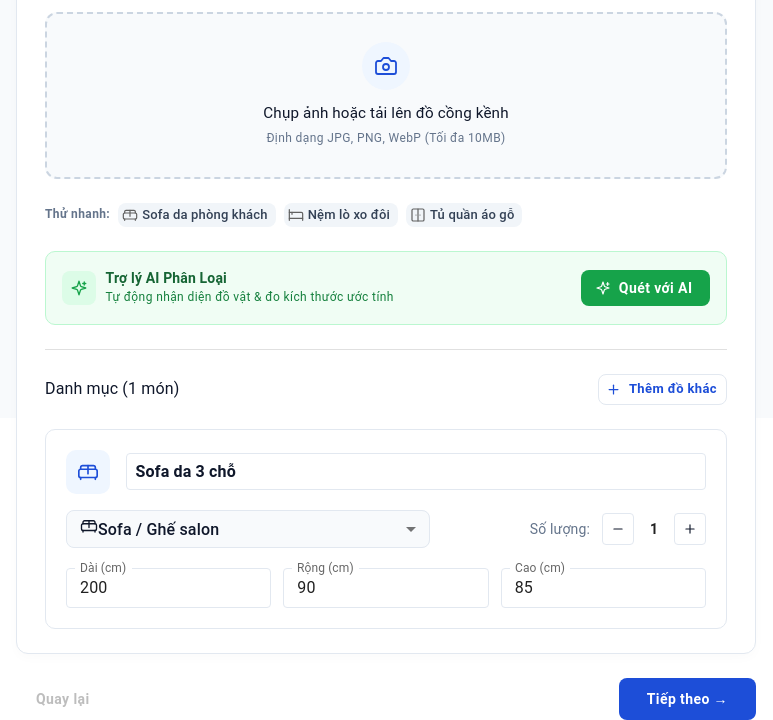
BulkyBookingPage › validates required fields before proceeding to step 2
The width and height of the screenshot is (773, 720).
(page scrolled)
Click the button "Tiếp theo →". click: click(687, 699)
box: [619,678,756,719]
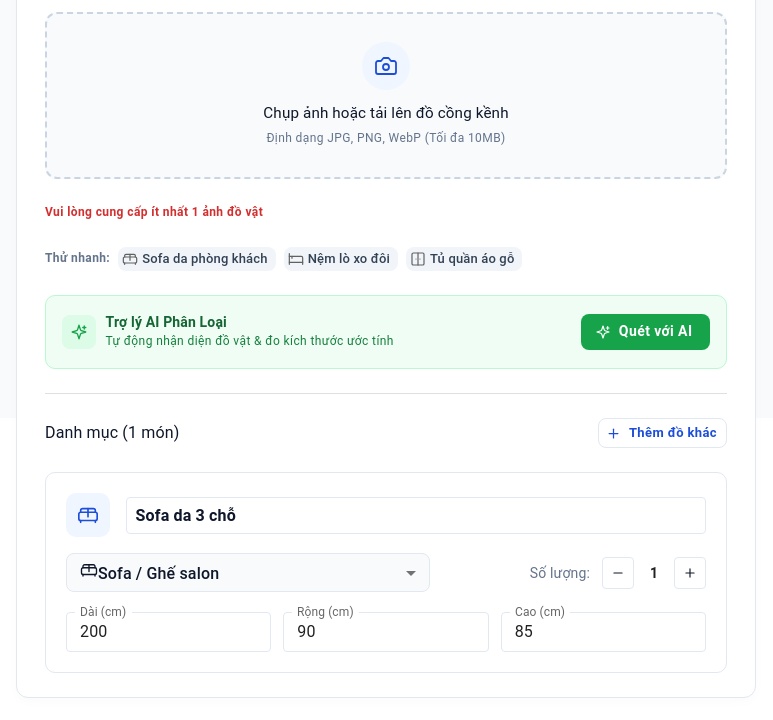
Result: the text "Vui lòng cung cấp ít nhất 1 ảnh đồ vật" is shown at [45,205,263,219]
